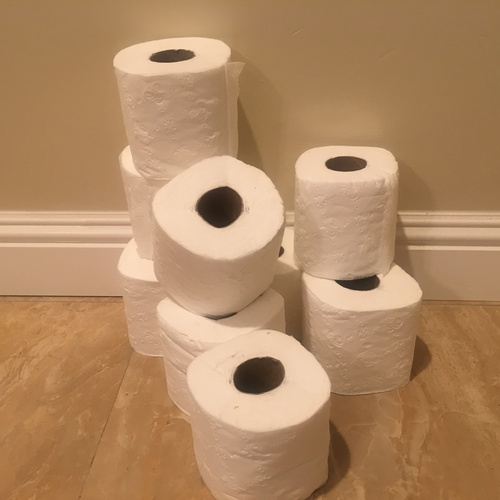roll: (184, 330, 332, 499), (148, 155, 284, 319), (113, 36, 245, 180), (298, 259, 423, 395), (158, 287, 284, 417), (292, 147, 401, 279), (117, 234, 198, 355), (119, 142, 173, 259), (266, 226, 305, 334)
